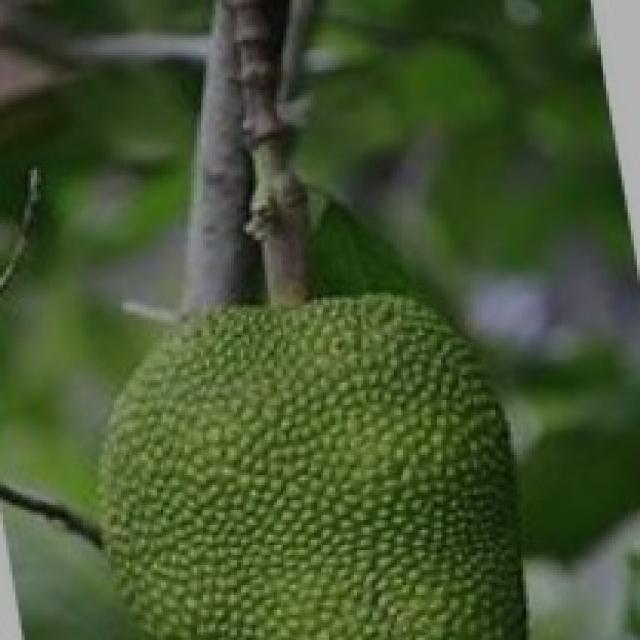Fruit: (210, 252, 578, 640)
